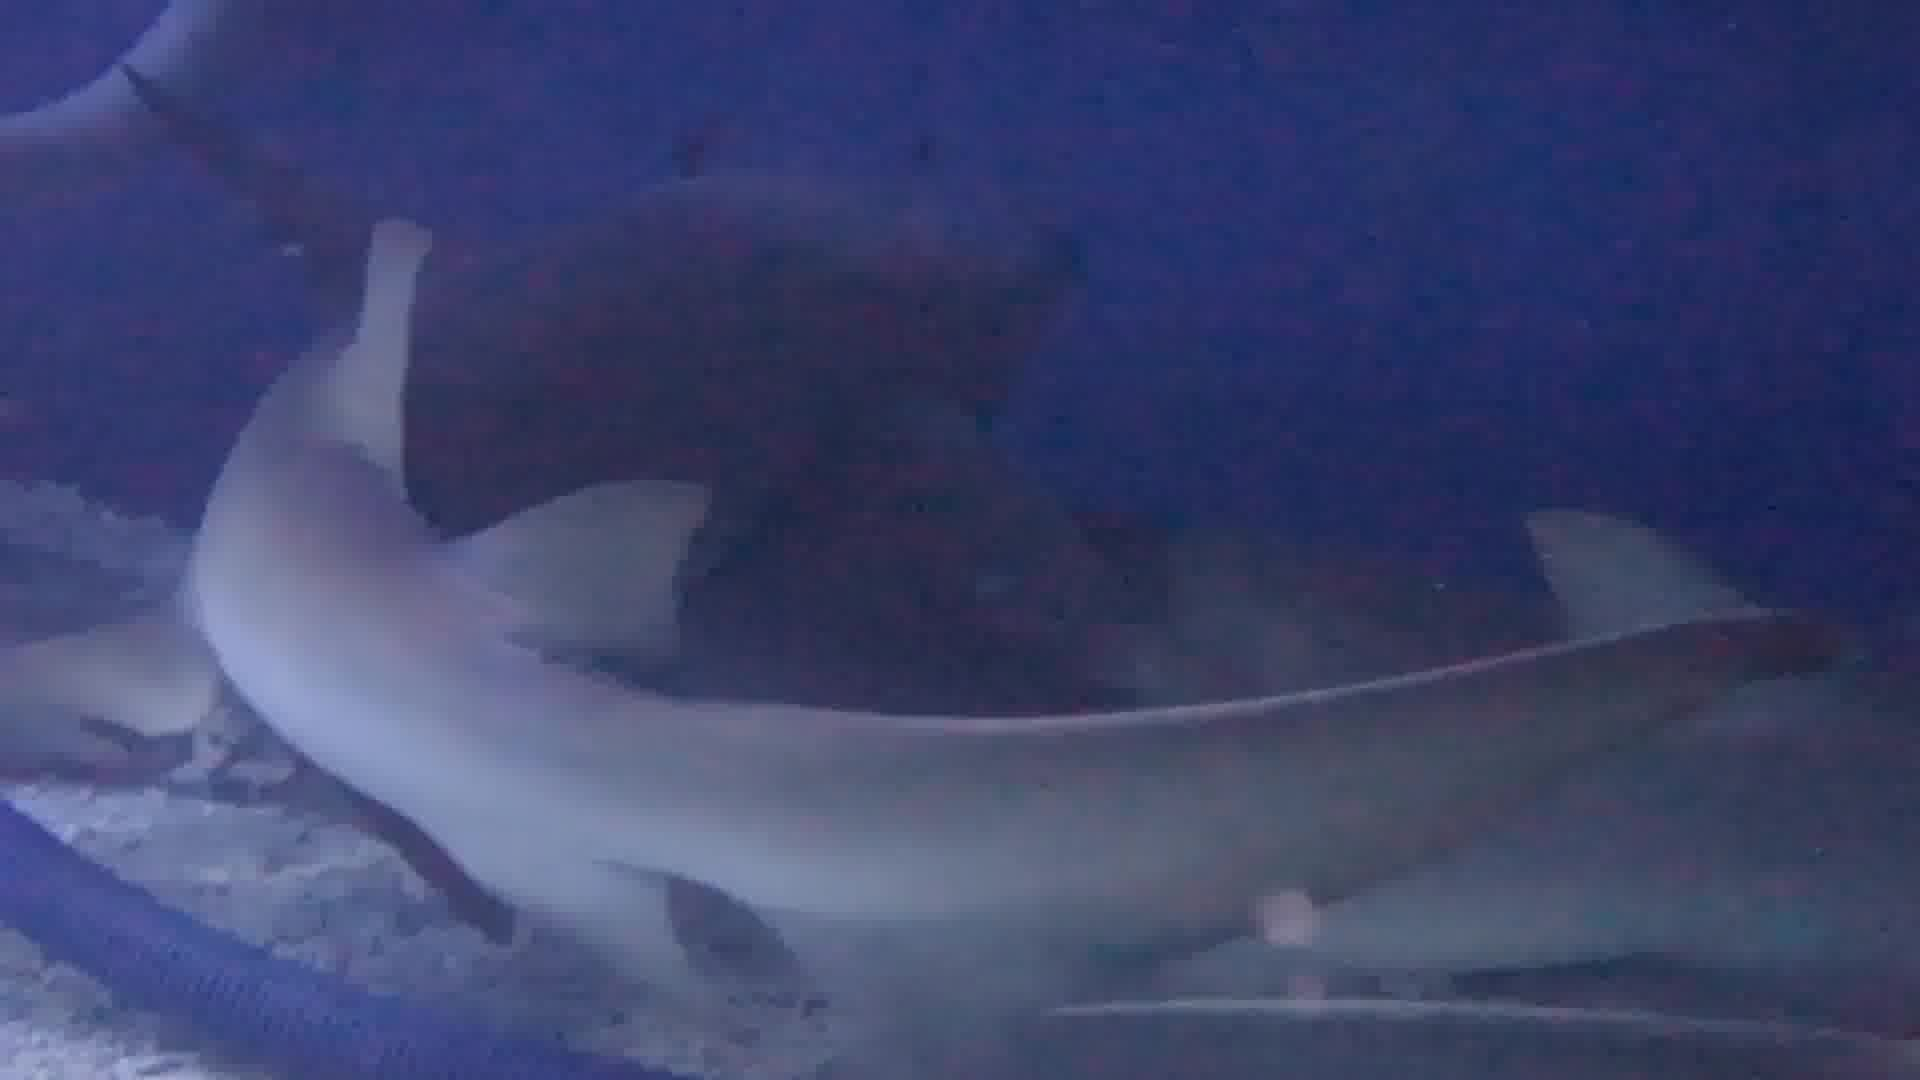Nebrius ferrugineus: (149, 102, 1704, 1001)
